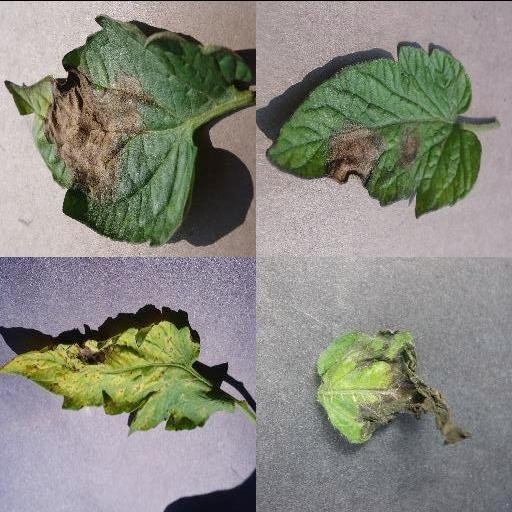Late Blight: (4, 13, 256, 247), (263, 41, 481, 219), (315, 325, 475, 445)
Septoria: (0, 320, 234, 434)
